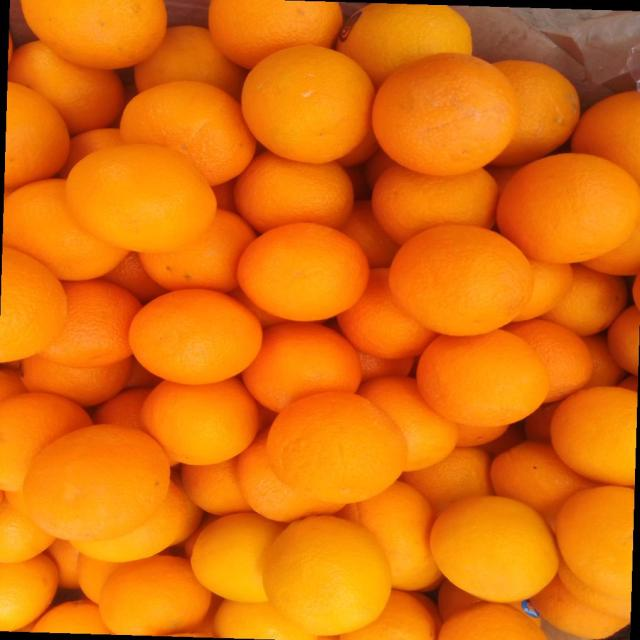fresh orange: (2, 1, 637, 636), (242, 393, 430, 515), (403, 308, 559, 438), (418, 487, 573, 616), (254, 508, 399, 640), (231, 310, 388, 428), (520, 460, 640, 610), (372, 54, 516, 175), (24, 426, 168, 545), (389, 224, 534, 336), (66, 145, 213, 254), (242, 44, 374, 163), (498, 155, 635, 265), (119, 81, 256, 186), (538, 358, 640, 494), (130, 287, 262, 385), (237, 222, 367, 321), (5, 181, 127, 282), (338, 4, 470, 88), (8, 40, 123, 134), (142, 379, 260, 468), (24, 279, 138, 370), (371, 164, 496, 244), (486, 59, 580, 164), (21, 1, 166, 69), (235, 155, 355, 232), (100, 556, 212, 637), (2, 392, 88, 495), (190, 512, 286, 604), (133, 26, 246, 98), (1, 248, 66, 364), (545, 267, 625, 335)
